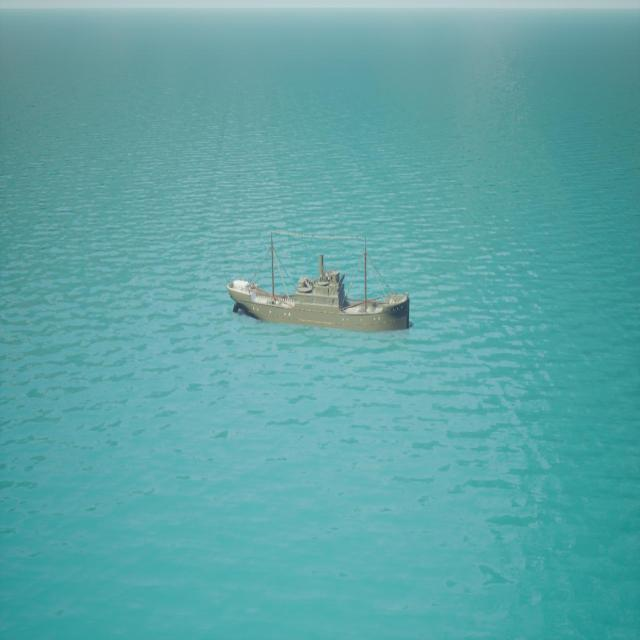fishing ship: (228, 234, 414, 334)
